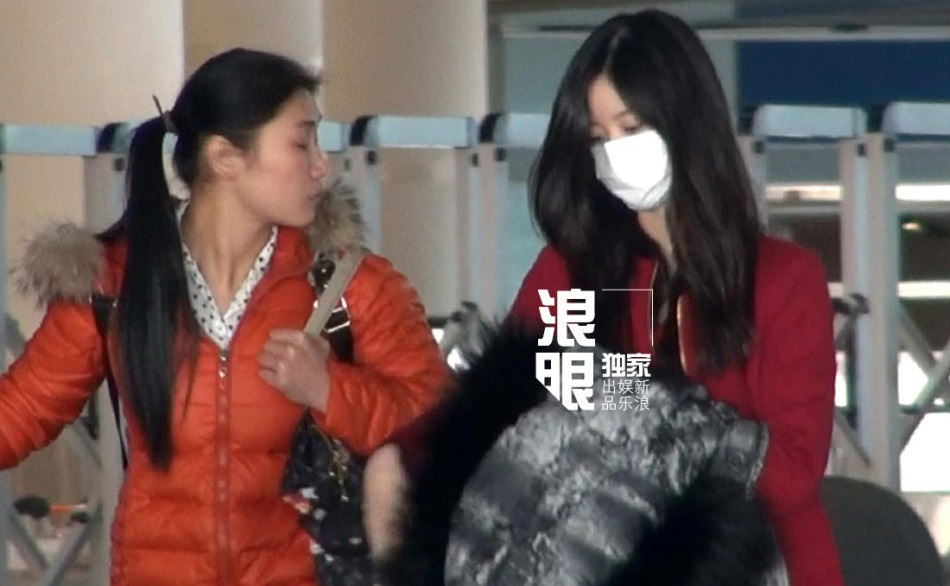face: (228, 95, 332, 225)
face_mask: (588, 78, 679, 211)
